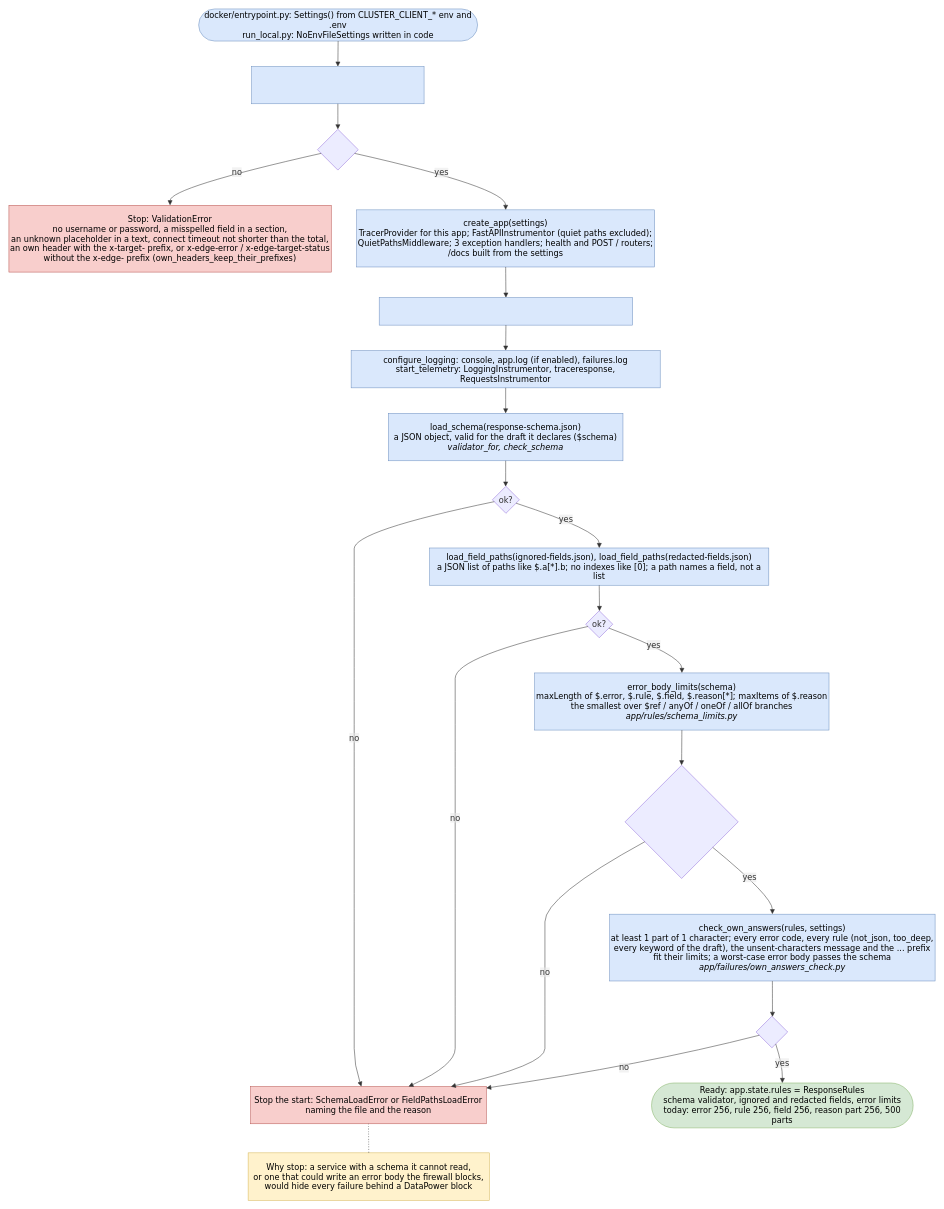
The diagram is 944 pixels wide and 1209 high, and some of its shapes have lost their labels. The box of each missing label's shape, as (x1, y1, x2, y2) in pixels:
every limit found, no $ref loop?: (624, 765, 738, 878)
fits?: (756, 1016, 788, 1048)
serve: uvicorn.run (no server / date headers); lifespan starts: (379, 297, 633, 325)
valid?: (317, 129, 358, 170)
Validate the settings pydantic models in app/config/: (251, 66, 424, 104)
